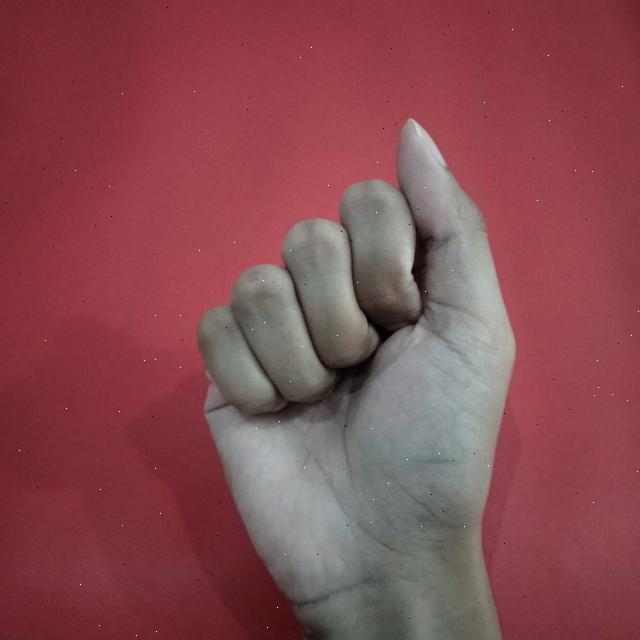A: (187, 105, 522, 640)
